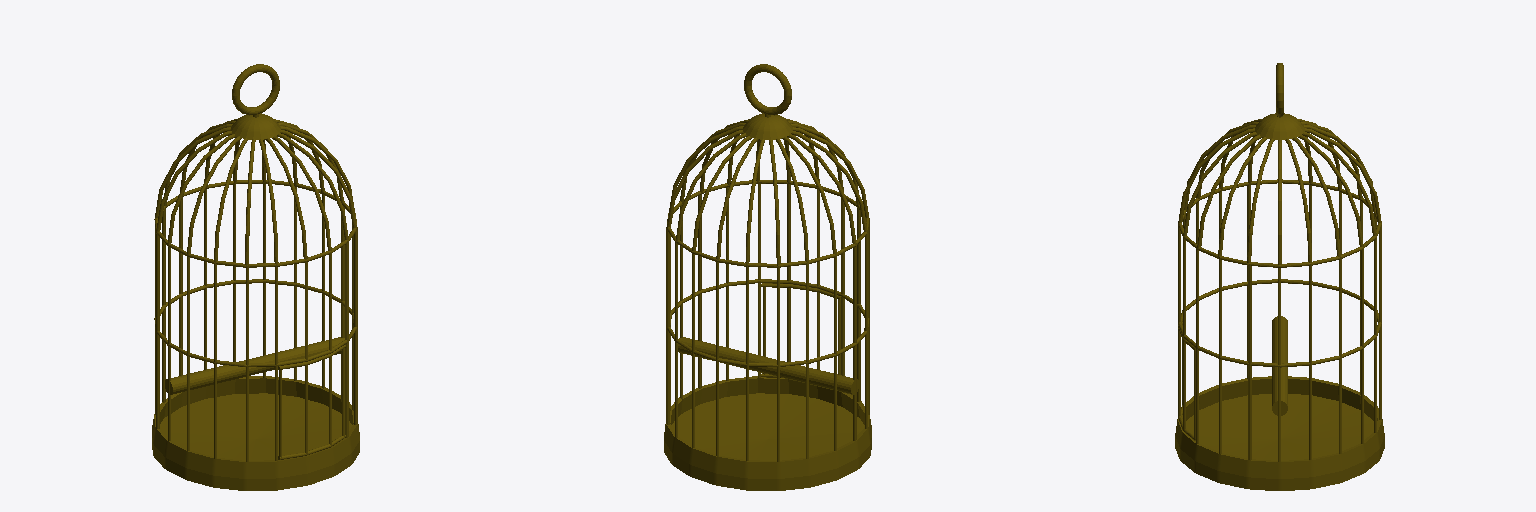
The model's file is jaula.obj.
3 views of the same model, side by side, from view 1: azimuth 30°, elevation 25°; view 2: azimuth 150°, elevation 25°; view 3: azimuth 270°, elevation 25° (orthographic).
Visible parts, largest first — view 1: pTorus19; view 2: pTorus19; view 3: pTorus19.
Part boxes in pixels (left/top/right/bottom): pTorus19: left=152, top=64, right=359, bottom=490; pTorus19: left=664, top=64, right=871, bottom=490; pTorus19: left=1175, top=63, right=1384, bottom=490.
Bounding box in the file's own units: 4.69 × 9.44 × 4.69.